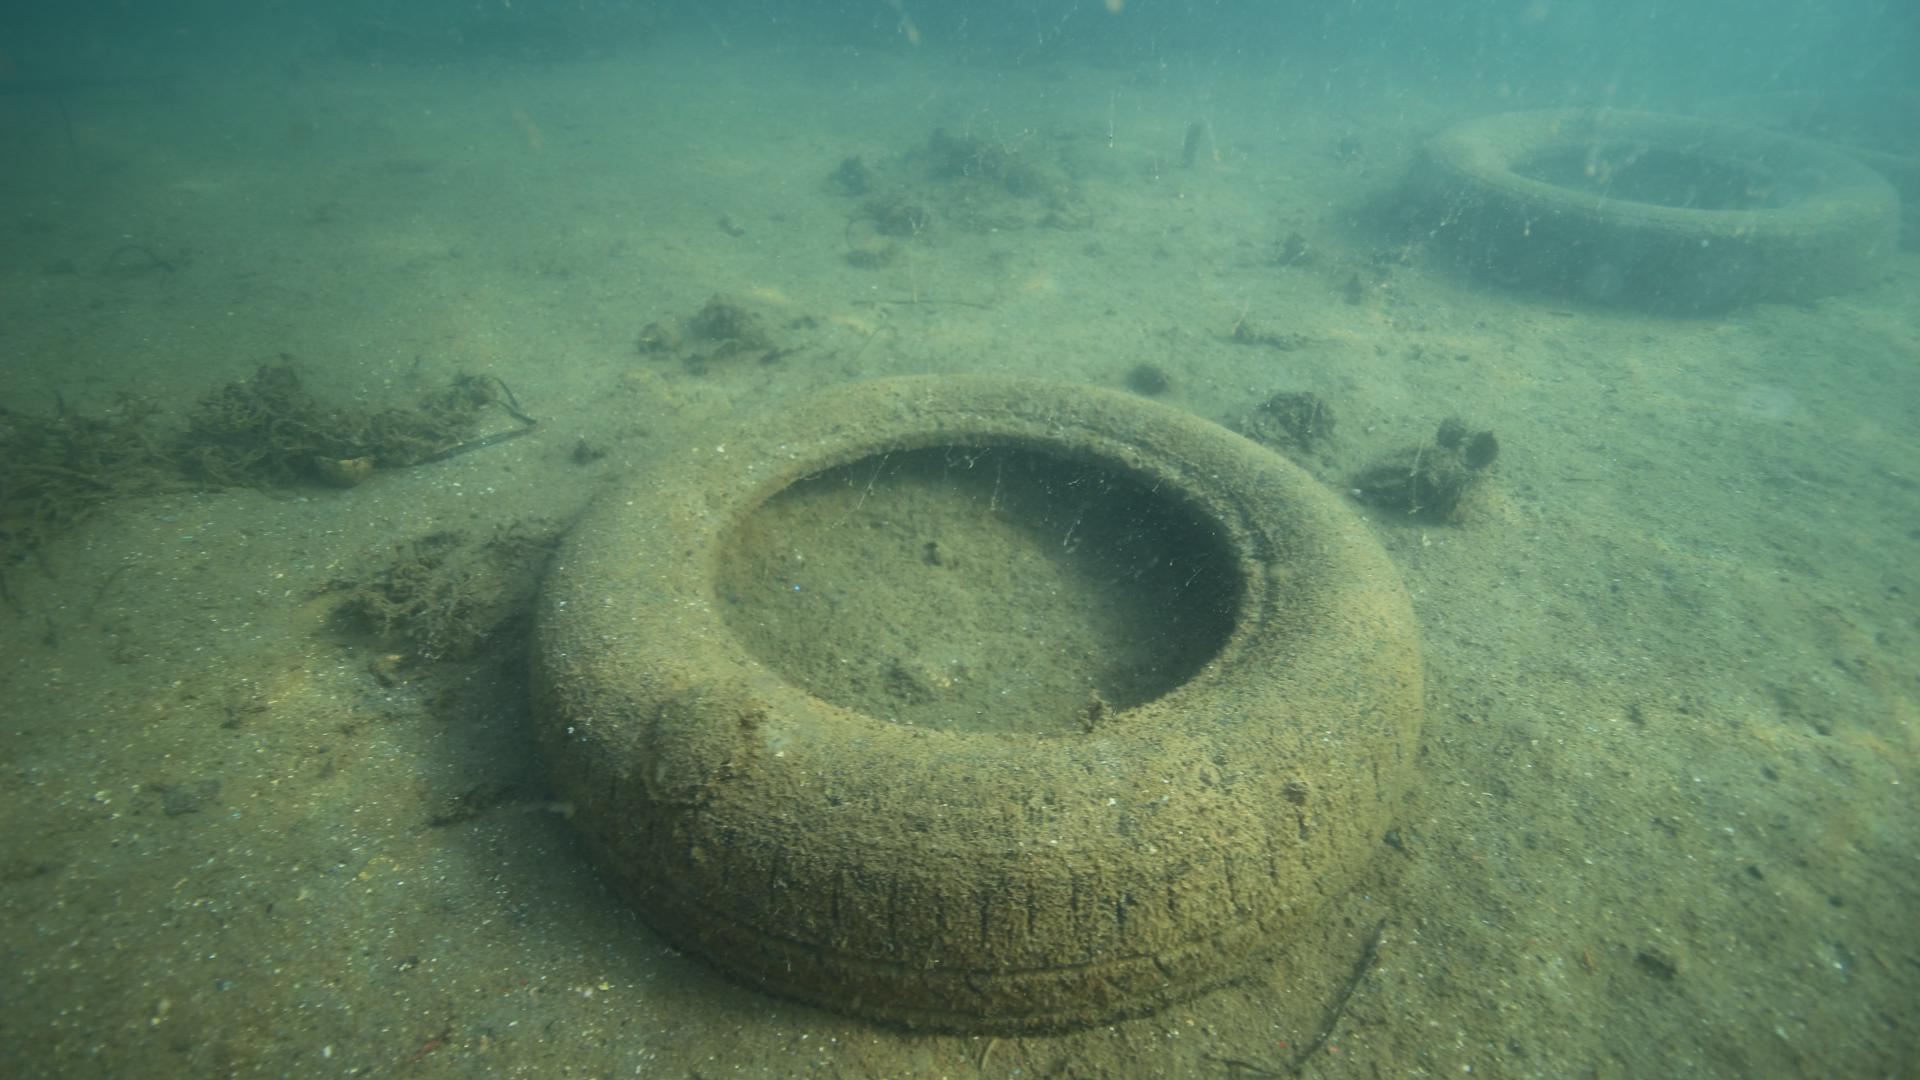tire: (529, 371, 1425, 1031), (1399, 95, 1896, 313)
